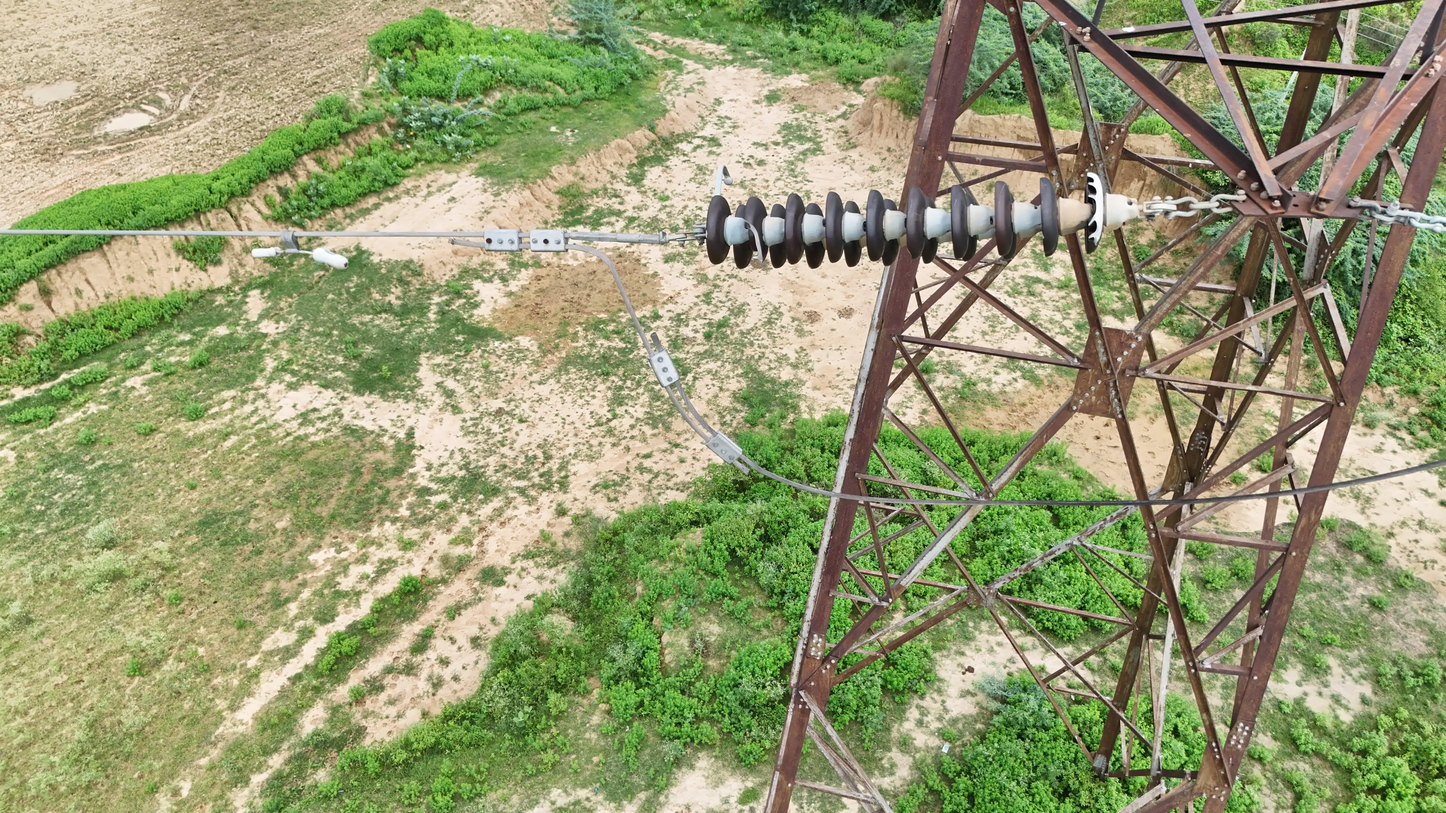broken_insulator: (1084, 171, 1106, 258), (743, 196, 770, 266), (905, 186, 925, 260)
